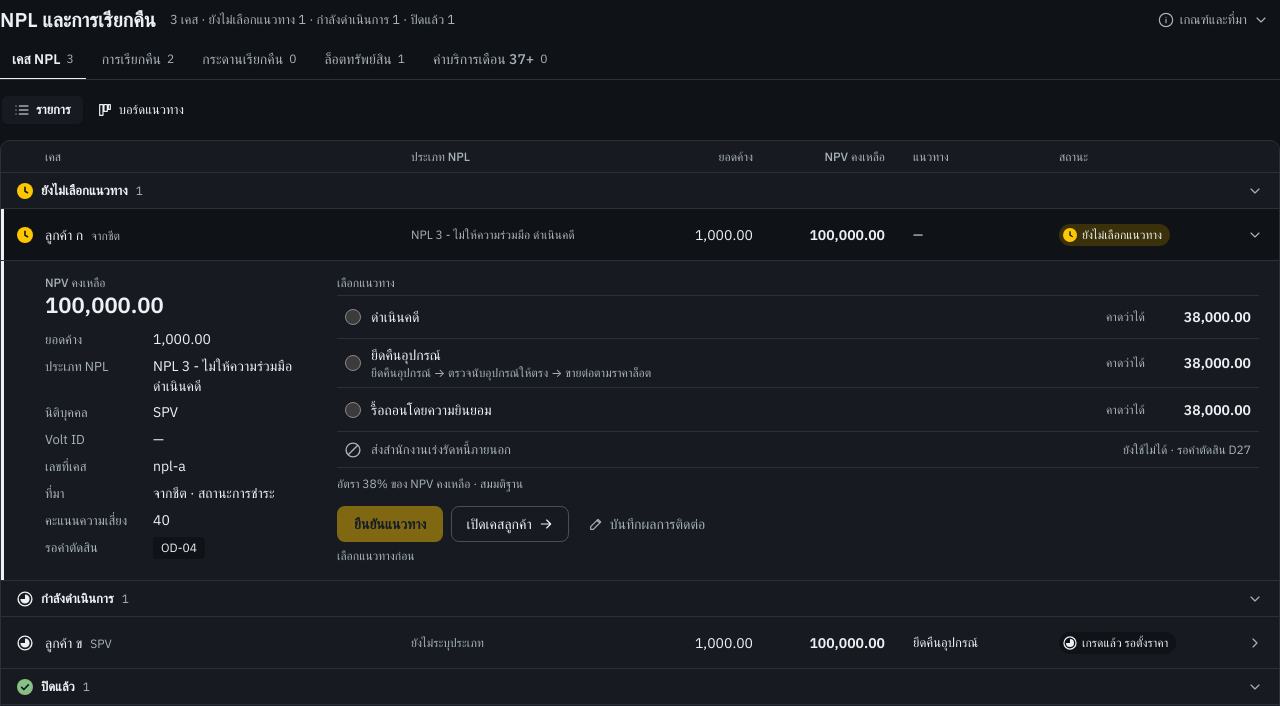
Test case: NPL cases (design E glyph list) › opens the case pop-up and the contact drawer from a row
The image size is (1280, 706).
Click the button "เปิดเคสลูกค้า": click(510, 524) [451,506,569,542]
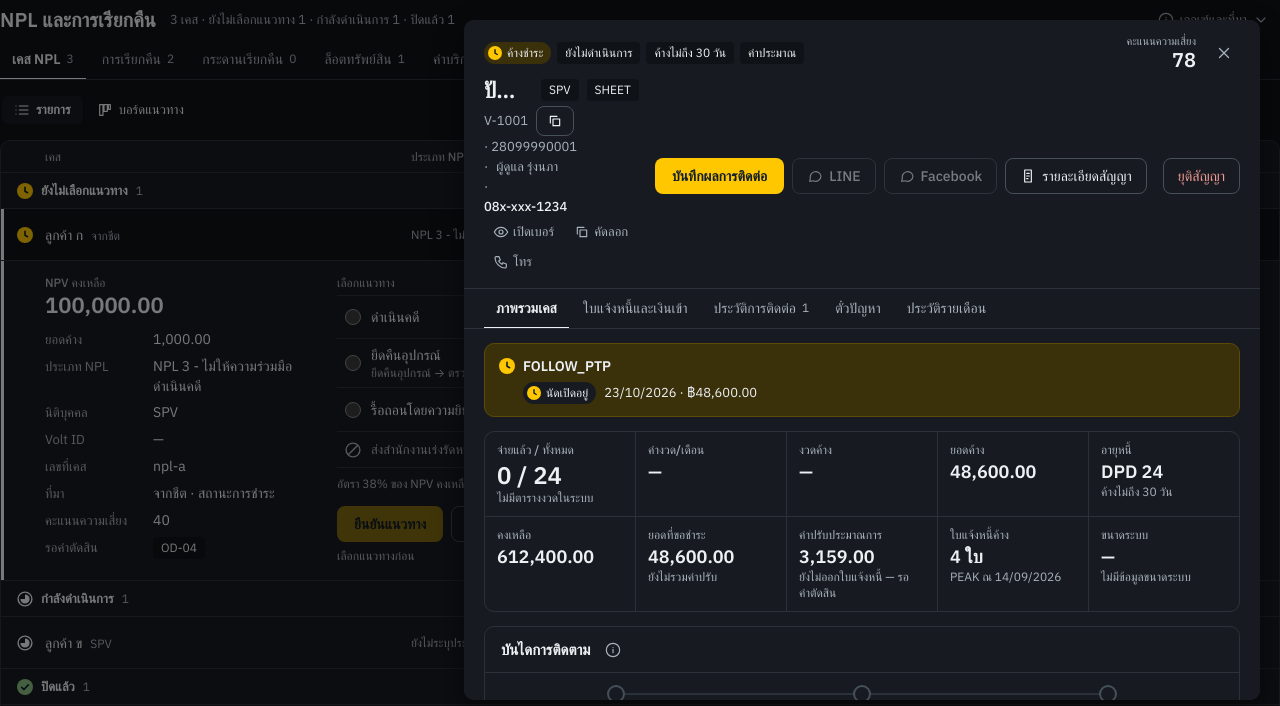
Expected: the dialog named "เคสลูกค้า" is shown, [464,20,1260,700]
Press Escape
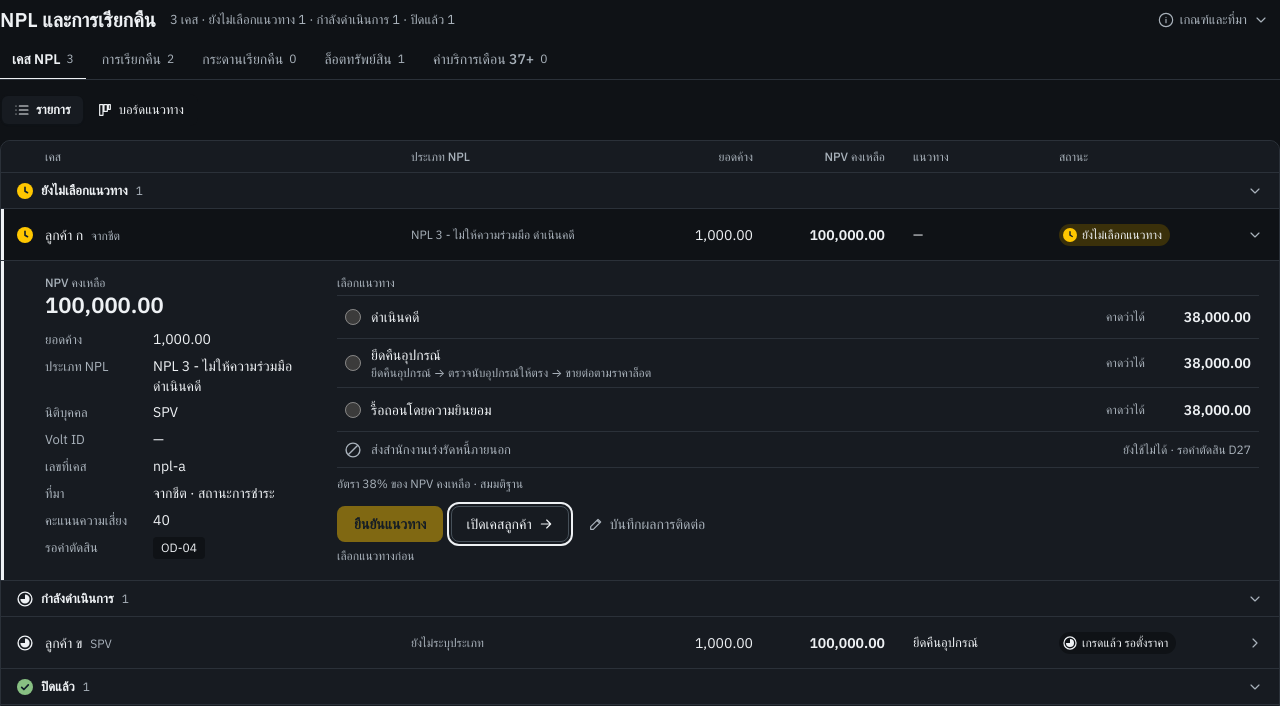
Click the button "บันทึกผลการติดต่อ": click(646, 524) [577,508,716,540]
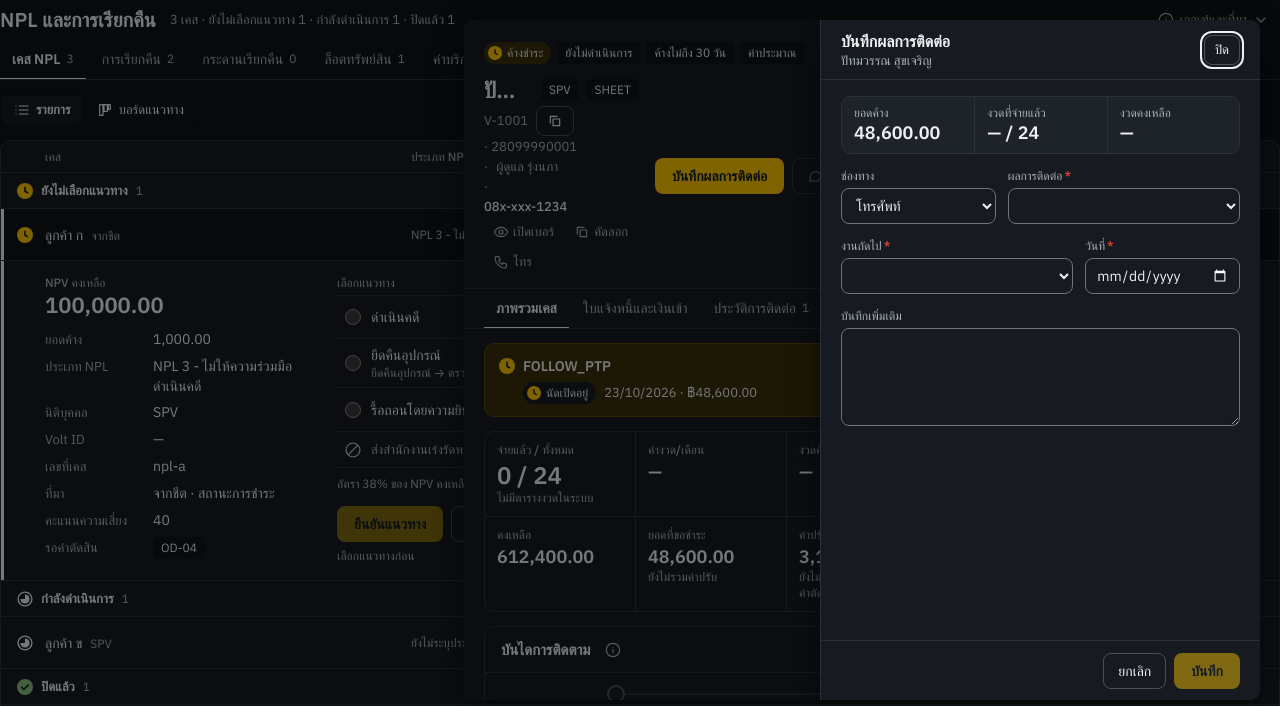
Expected: the dialog "บันทึกผลการติดต่อ" is shown, [464,20,1260,700]
